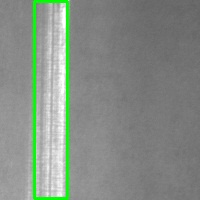scratches: (34, 1, 67, 198)
